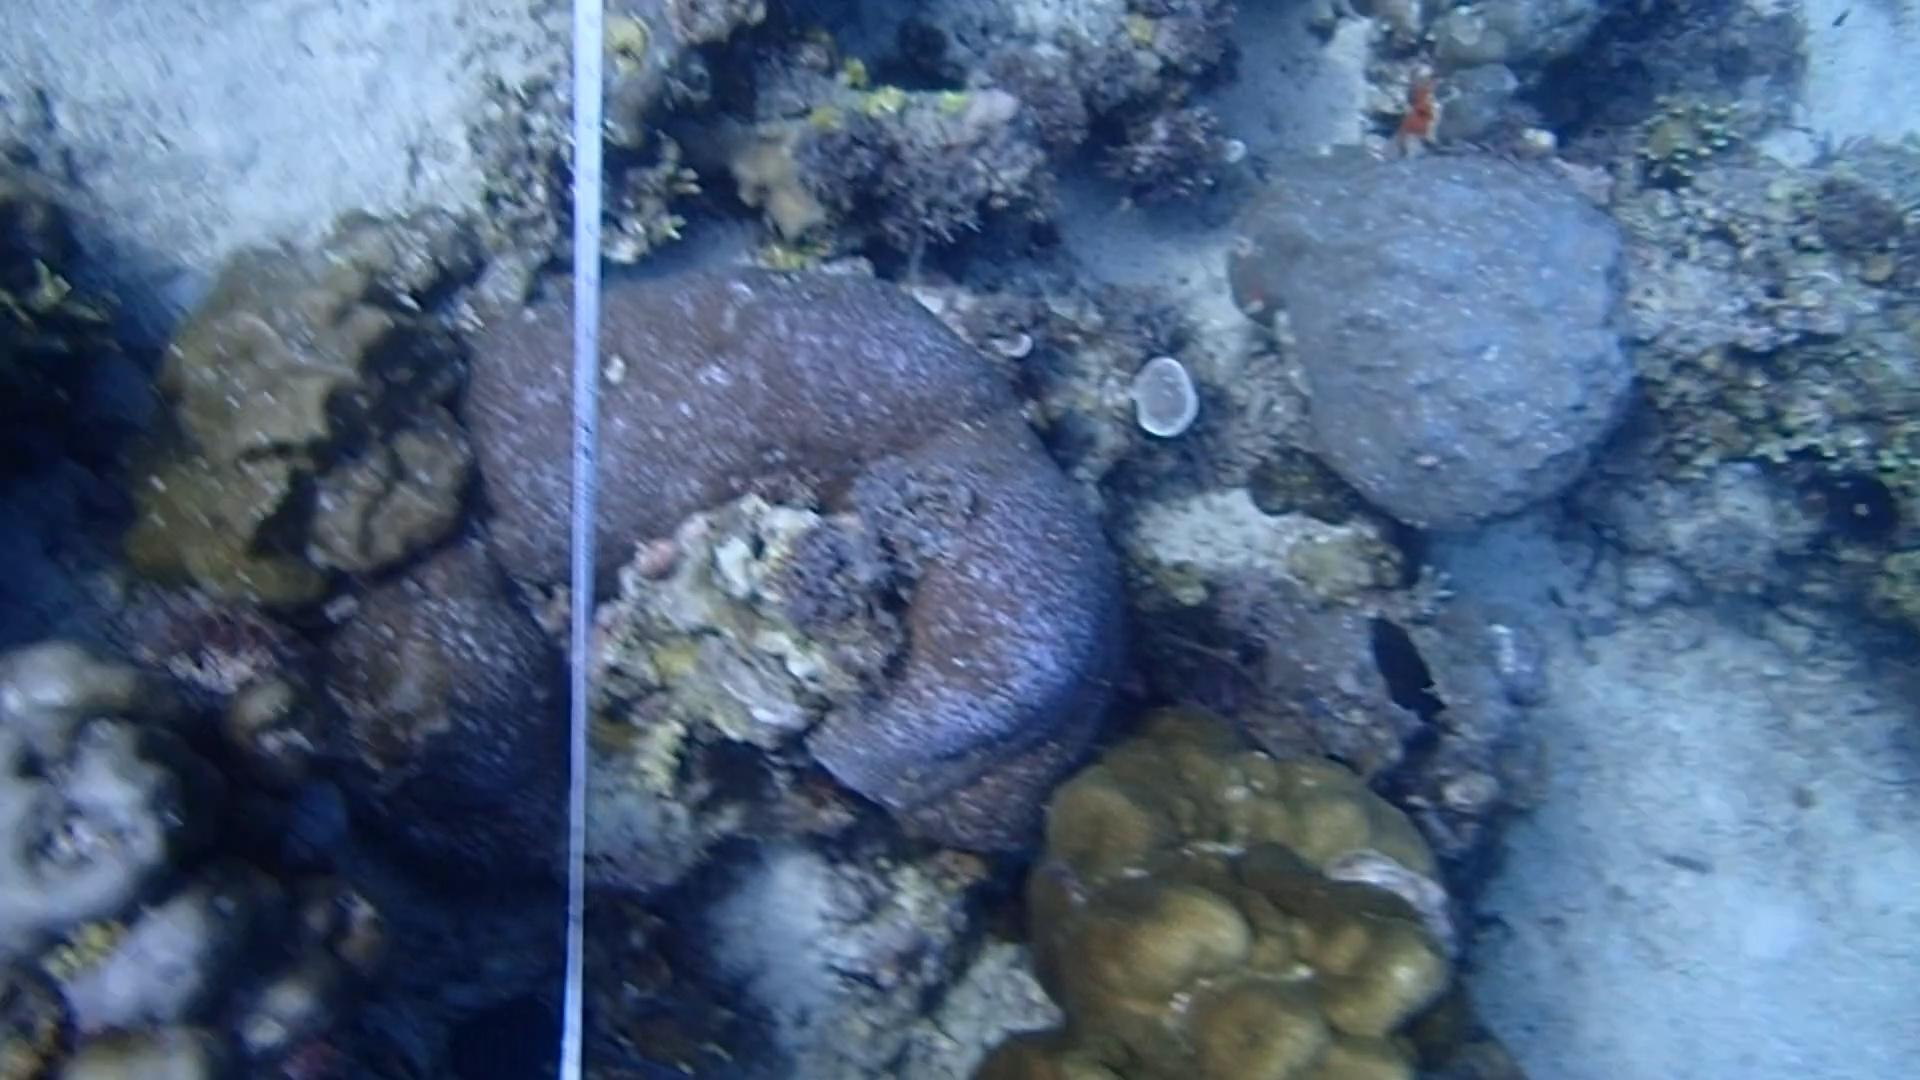Dark Fish: (1365, 612, 1461, 723)
